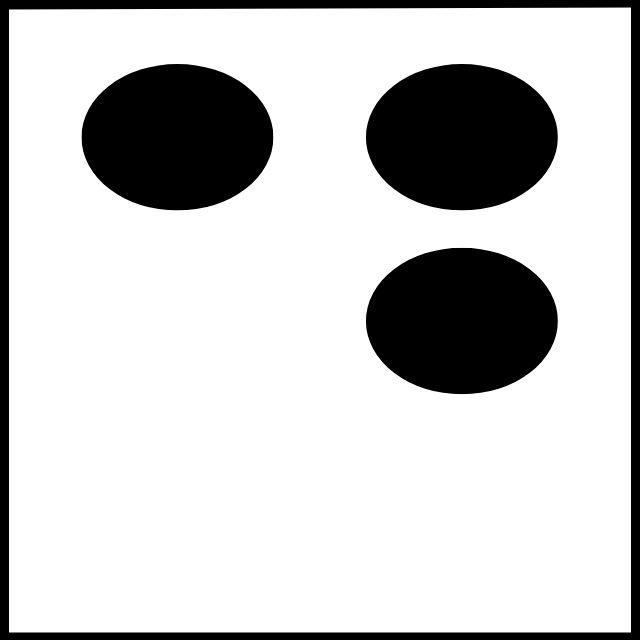one_cell_alphabet_dahil: (79, 63, 558, 596)
